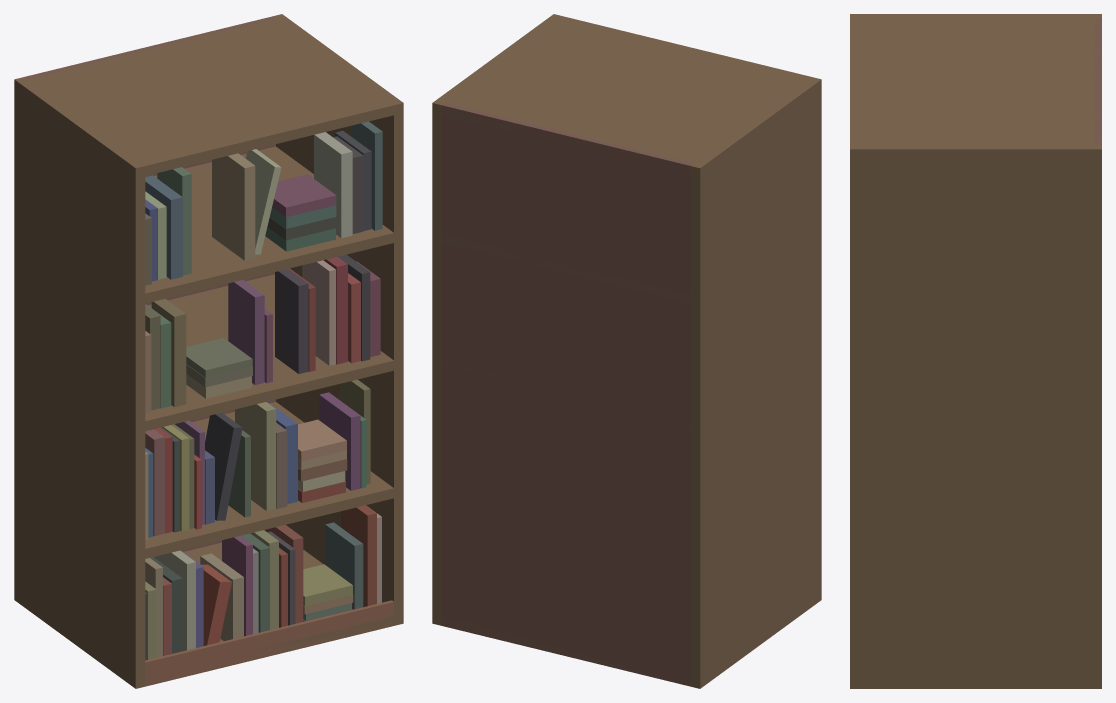
Rendered from estante-1.glb.
3 renders of one model, left to right at view 1: azimuth 30°, elevation 25°; view 2: azimuth 150°, elevation 25°; view 3: azimuth 270°, elevation 25°, orthographic. The views are drawn at different scales.
Parts seen in each view (by area): view 1: estante; view 2: estante; view 3: estante.
Boxes of the visible parts, <box> form: estante: <box>14,14,403,688</box>; estante: <box>432,14,821,688</box>; estante: <box>850,14,1101,688</box>.
Bounding box in the file's own units: 1.4 × 2.6 × 1.1.
